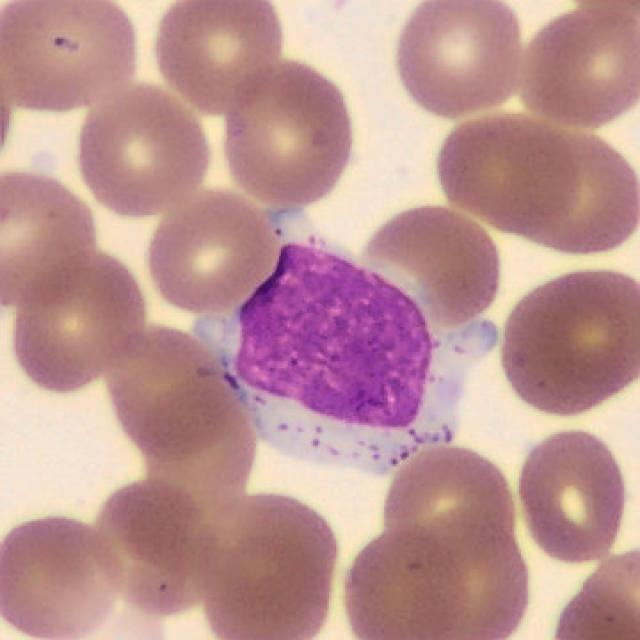Linfocito atipico: (167, 208, 496, 475)
